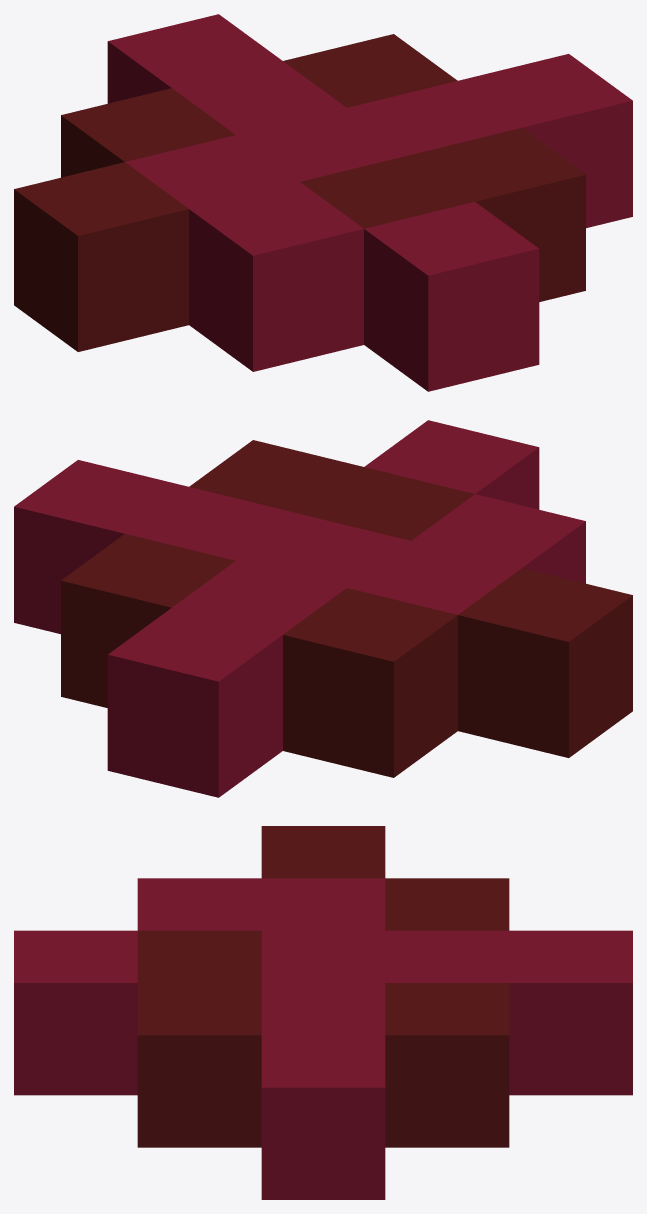
The model's file is salami.obj.
The picture shows the model from 3 angles, top to bottom: view 1: azimuth 30°, elevation 25°; view 2: azimuth 150°, elevation 25°; view 3: azimuth 270°, elevation 25°; orthographic projection. The views are drawn at different scales.
Size of the model in its own units: 0.5 by 0.1 by 0.5.
Materials: 1 (1 with a texture image).
